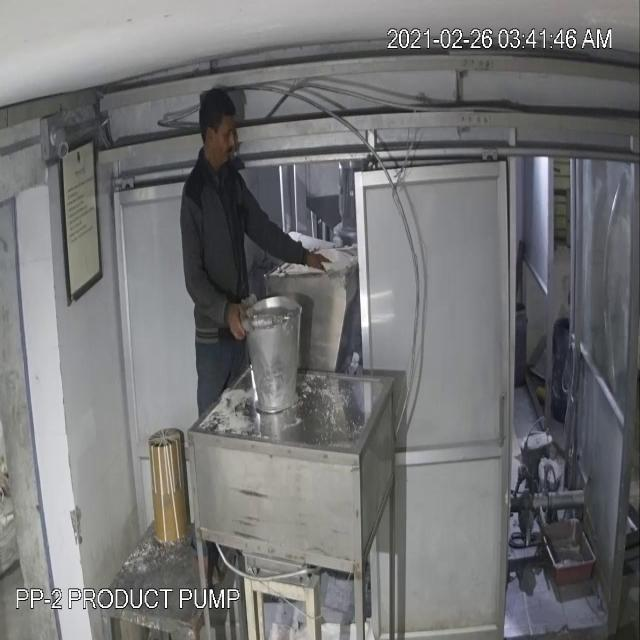no-helmet: (197, 81, 240, 181)
